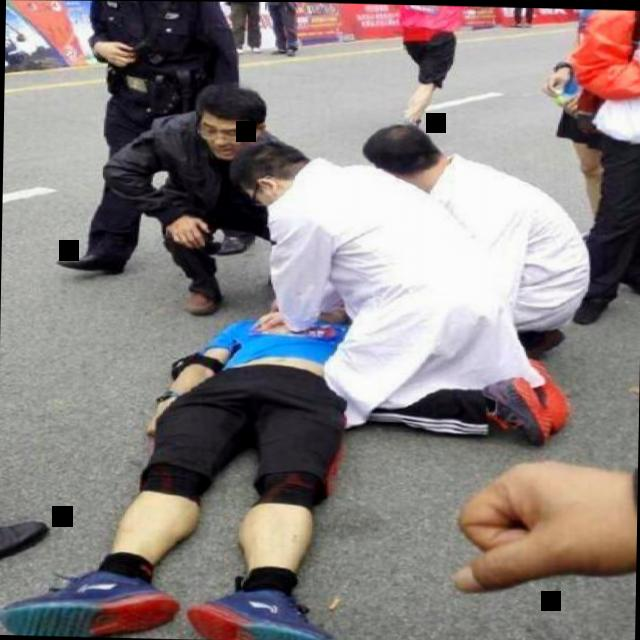Fall-Detected: (0, 289, 389, 640)
